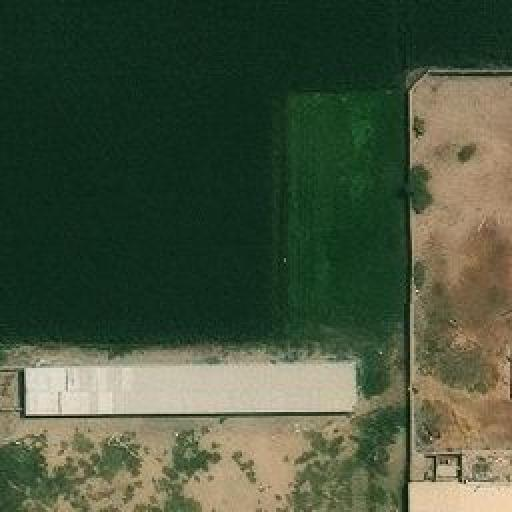manzanas: (411, 69, 510, 510), (0, 356, 363, 419)
